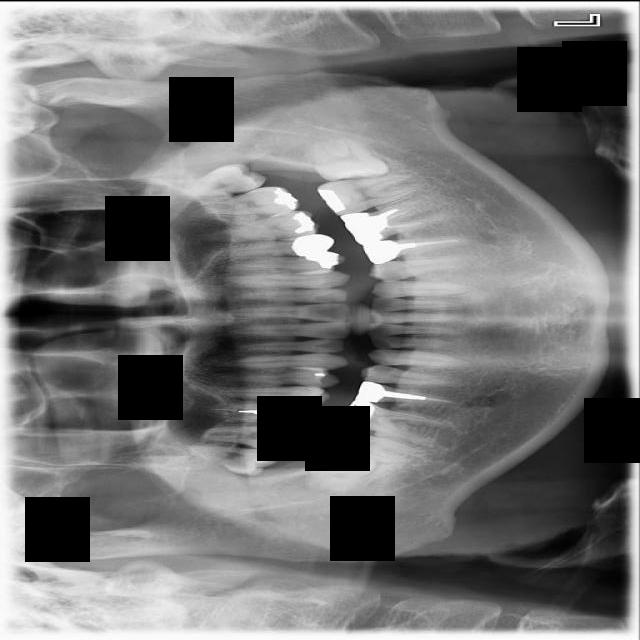3M ESPE Implant: (178, 439, 279, 479)
52: (338, 196, 394, 255), (314, 170, 365, 225), (333, 391, 382, 443), (269, 203, 321, 247), (313, 425, 368, 460), (294, 246, 347, 277), (282, 363, 344, 389), (288, 229, 337, 258), (251, 425, 304, 451), (276, 400, 321, 427), (354, 377, 391, 408), (363, 239, 402, 264)
73: (366, 189, 453, 241), (200, 401, 285, 425), (388, 234, 469, 257), (379, 384, 462, 406), (584, 23, 592, 25)
BioHorizons Implant: (184, 181, 303, 229)
BioLife Implant: (165, 157, 269, 205)
Biomet 3i Implant: (307, 132, 390, 182)
Blue Sky Bio Implant: (315, 170, 424, 218)
Caries: (185, 419, 304, 453)
Implant: (312, 423, 427, 467)
Keystone Dental Implant: (305, 453, 377, 495)
